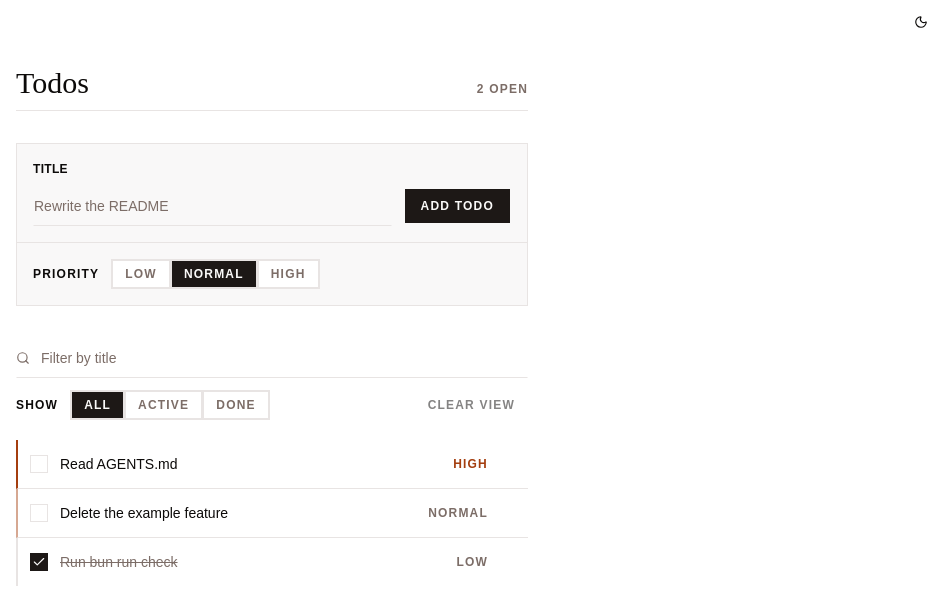
it: /todos › writes the picked filter to the URL
Expected: the list named "Todos" is shown, [16,440,528,586]
Click the button "done" at (236, 404), box [203,390,269,418]
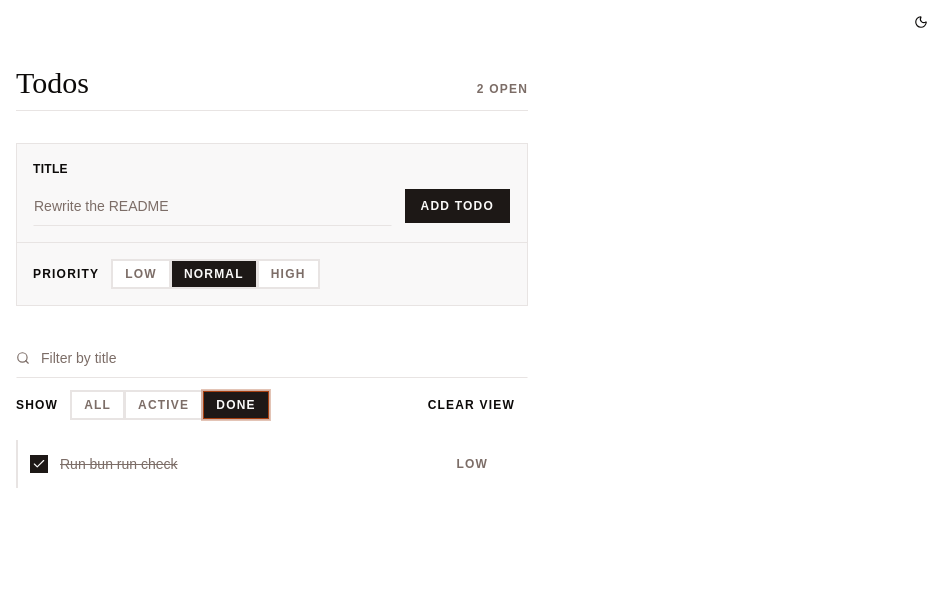
Now the number of list items is 1, box [16,440,528,488]
